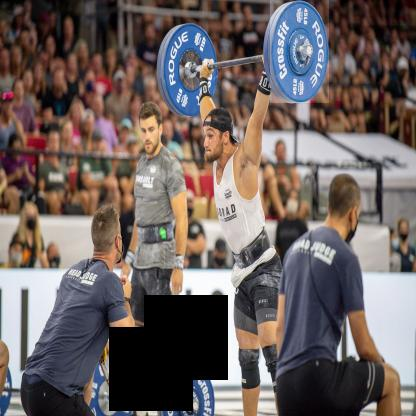barbell: (271, 1, 330, 104), (164, 22, 219, 119)
